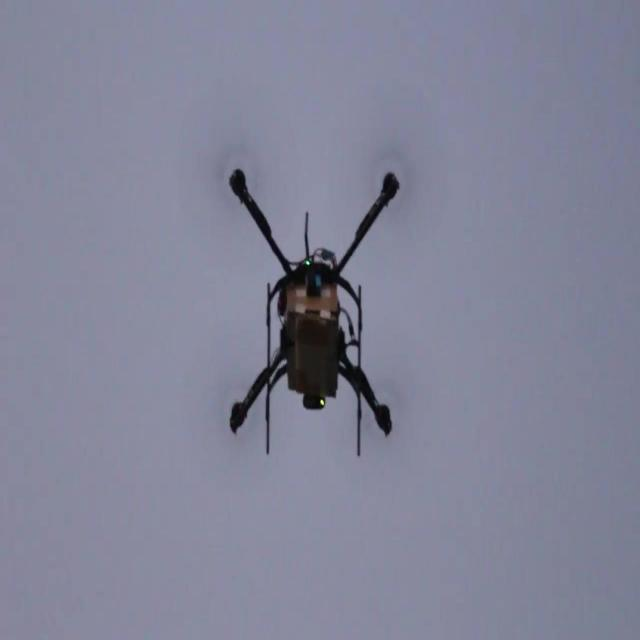UAV: (228, 167, 400, 458)
